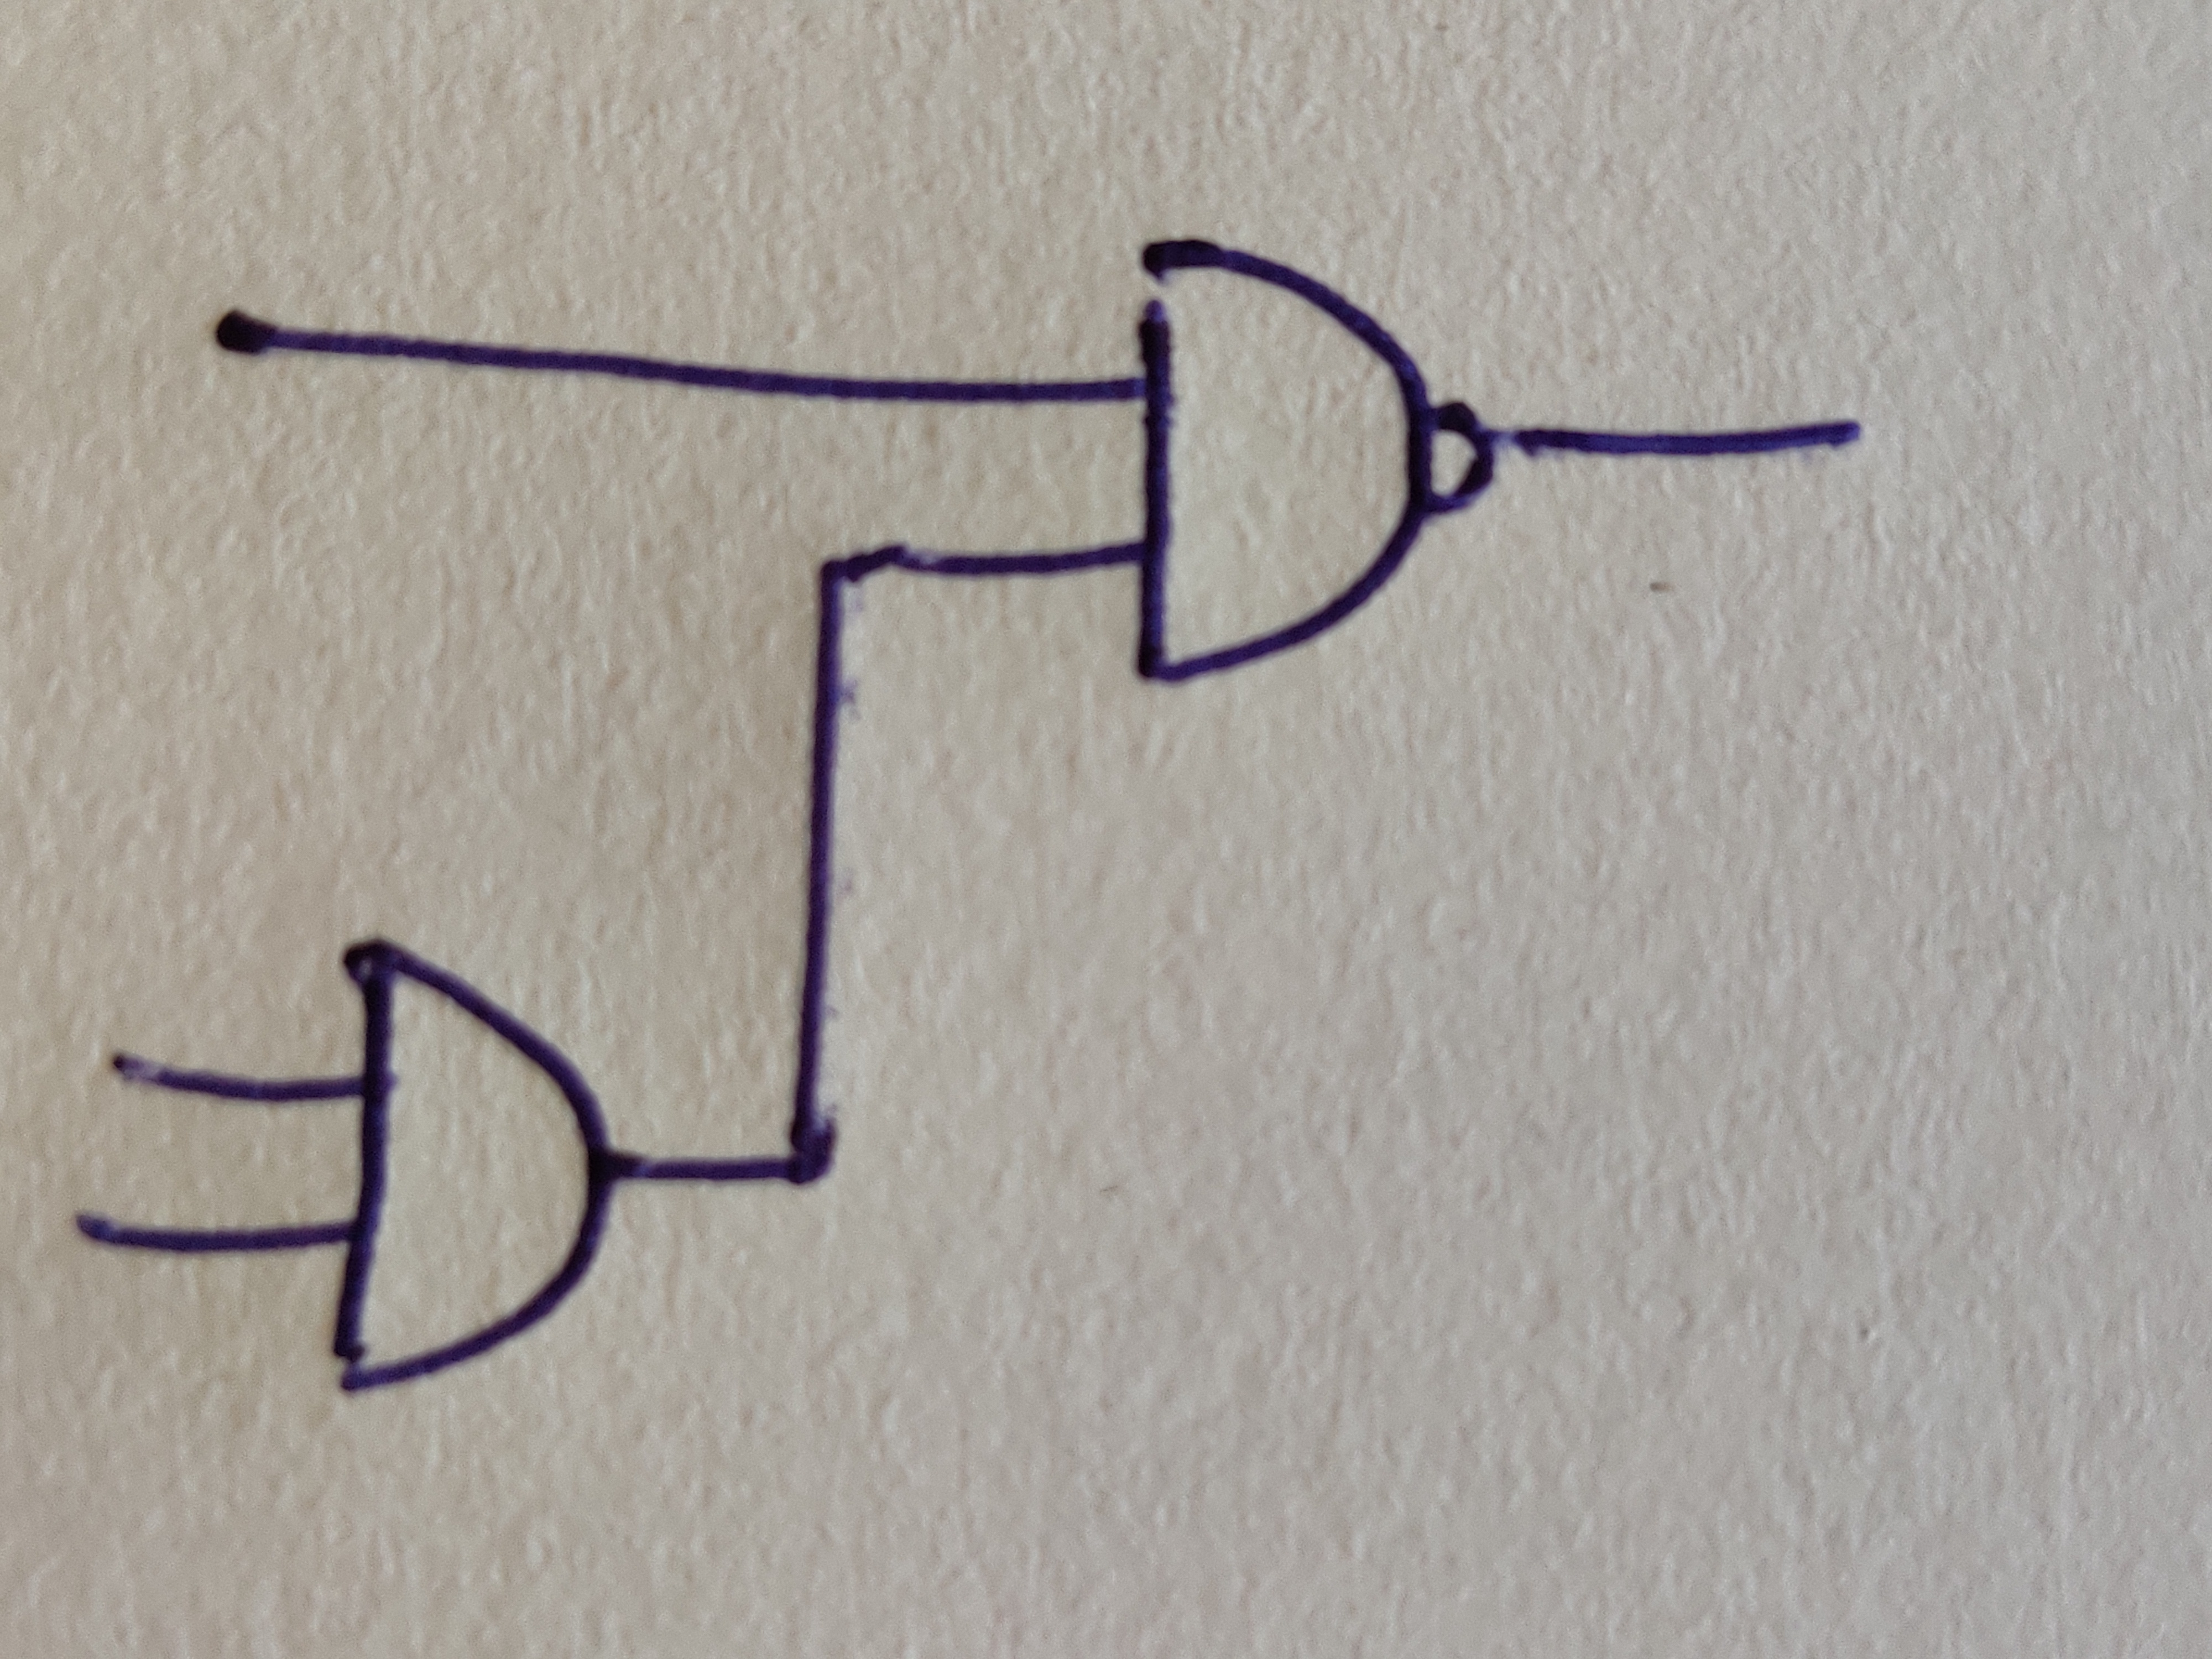and: (1137, 239, 1435, 681), (331, 939, 611, 1392)
not: (1418, 403, 1494, 514)
